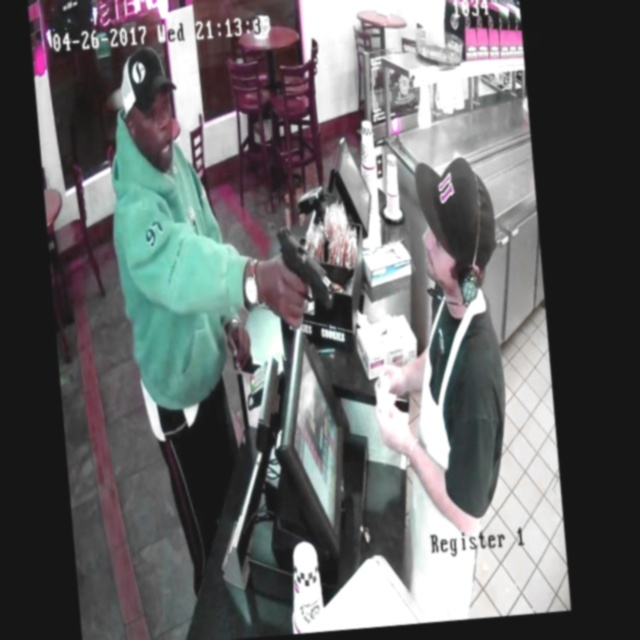gun: (251, 215, 352, 329)
